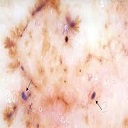Carcinoma: (56, 14, 87, 38), (18, 85, 37, 106), (86, 90, 100, 103)
